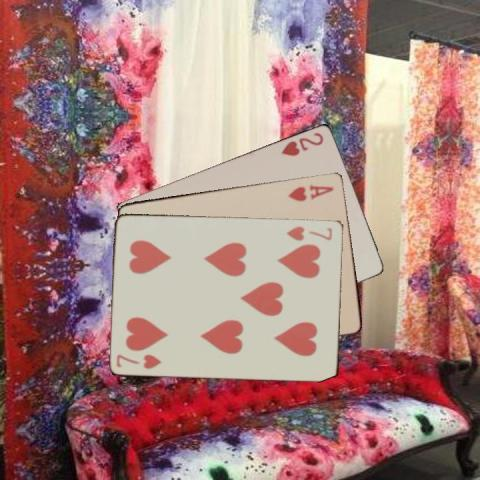2h: (279, 129, 325, 157)
7h: (283, 223, 334, 242), (114, 351, 163, 370)
Ah: (286, 181, 336, 202)
